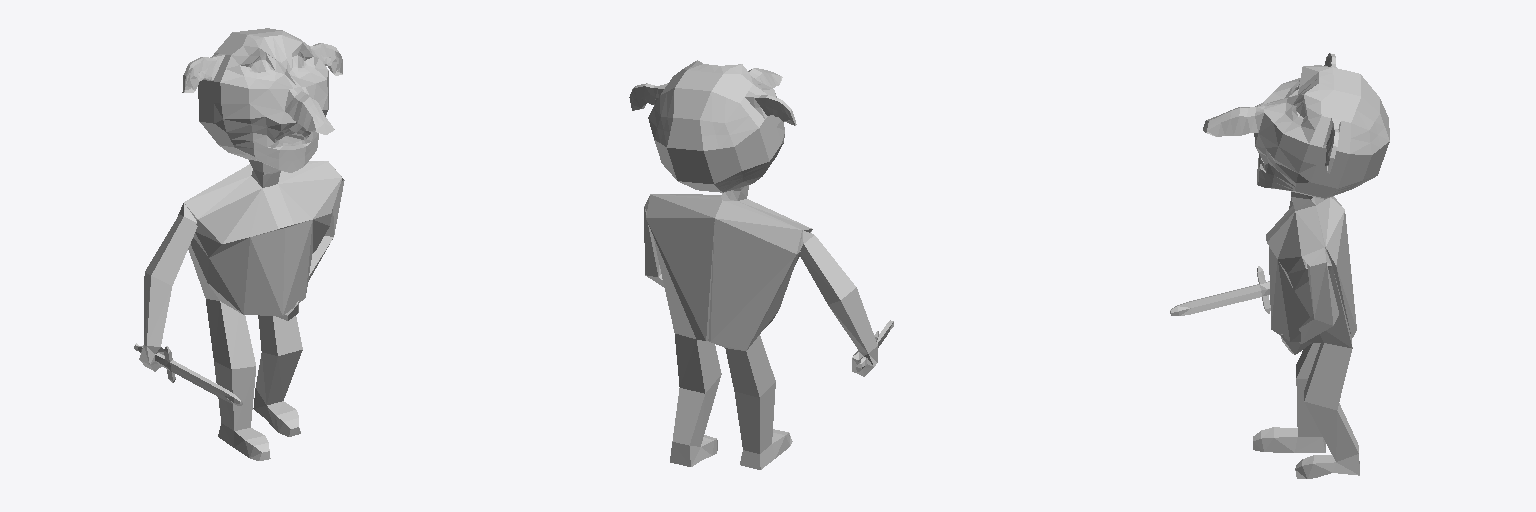
The model's file is andrzejDying_000016.obj.
The picture shows the model from 3 angles: view 1: azimuth 30°, elevation 25°; view 2: azimuth 150°, elevation 25°; view 3: azimuth 270°, elevation 25°; orthographic projection.
Parts seen in each view (by area): view 1: Cube; view 2: Cube; view 3: Cube.
Part boxes in pixels (left/top/right/bottom): Cube: left=134, top=28, right=344, bottom=460; Cube: left=629, top=60, right=893, bottom=469; Cube: left=1170, top=53, right=1389, bottom=478.
Size of the model in its own units: 5.54 by 9.38 by 4.73.